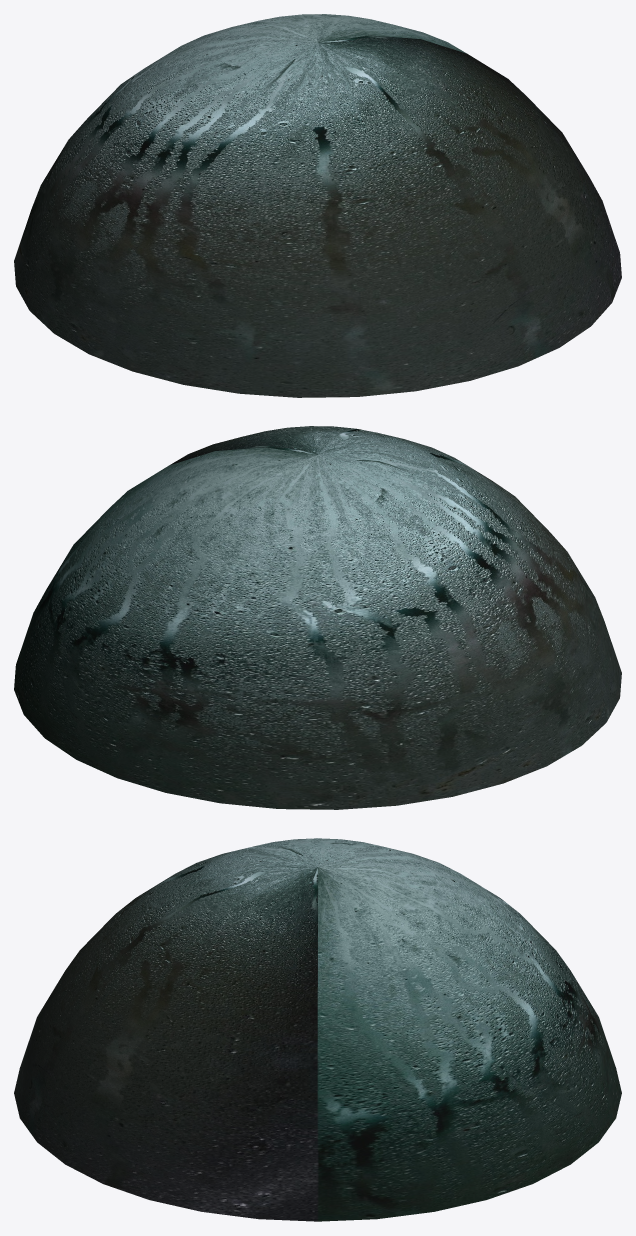
The model's file is VidrioUFO.obj.
The picture shows the model from 3 angles, top to bottom: view 1: azimuth 30°, elevation 25°; view 2: azimuth 150°, elevation 25°; view 3: azimuth 270°, elevation 25°; orthographic projection.
Parts seen in each view (by area): view 1: CristalOvni_cristal; view 2: CristalOvni_cristal; view 3: CristalOvni_cristal.
Boxes of the visible parts, <box> form: CristalOvni_cristal: <box>14,14,621,397</box>; CristalOvni_cristal: <box>14,426,621,809</box>; CristalOvni_cristal: <box>14,838,621,1221</box>.
Bounding box in the file's own units: 1.96 × 0.8049 × 1.96.
